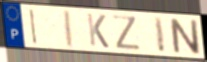I: (152, 15, 167, 54), (64, 8, 75, 50), (29, 7, 39, 46)
K: (85, 12, 110, 50)
N: (168, 17, 203, 56)
Z: (111, 14, 143, 52)
